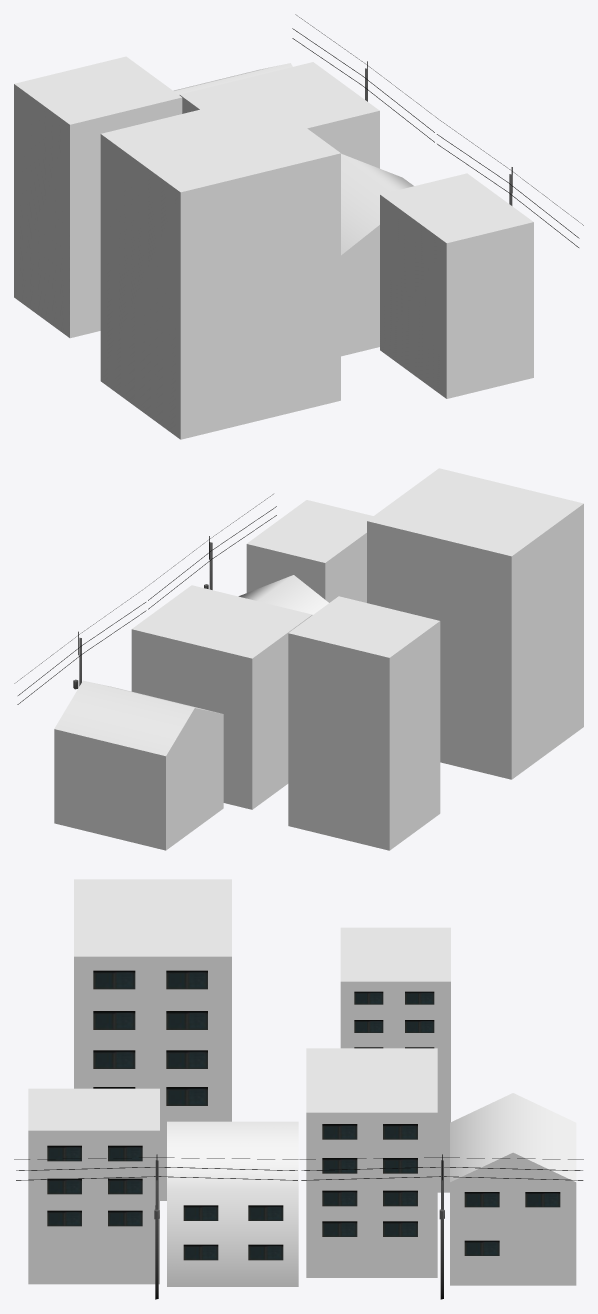
3 renders of one model, top to bottom at view 1: azimuth 30°, elevation 25°; view 2: azimuth 150°, elevation 25°; view 3: azimuth 270°, elevation 25°, orthographic. The views are drawn at different scales.
Visible parts, largest first — view 1: obj111, obj108, obj110, obj106, obj107, black_bg, obj109, obj105; view 2: obj111, obj110, black_bg, obj106, obj108, obj107, obj105, obj109; view 3: obj111, obj106, obj108, black_bg, obj107, obj110, obj109, obj105.
Part boxes in pixels (box(x1,y1,x2,y2)): obj111: box(100, 95, 340, 439); obj108: box(380, 173, 533, 398); obj110: box(14, 56, 182, 338); obj106: box(179, 62, 379, 168); obj107: box(341, 153, 413, 356); black_bg: box(173, 63, 292, 94); obj109: box(437, 120, 583, 247); obj105: box(292, 14, 438, 142); obj111: box(367, 468, 583, 779); obj110: box(288, 596, 440, 850); black_bg: box(54, 680, 223, 850); obj106: box(131, 585, 312, 809); obj108: box(246, 500, 373, 602); obj107: box(238, 575, 328, 614); obj105: box(14, 589, 146, 704); obj109: box(145, 494, 276, 609); obj111: box(74, 879, 231, 1200); obj106: box(306, 1048, 437, 1277); obj108: box(28, 1088, 159, 1284); black_bg: box(450, 1093, 576, 1285); obj107: box(167, 1121, 298, 1286); obj110: box(340, 927, 450, 1192); obj109: box(14, 1154, 298, 1299); obj105: box(299, 1154, 583, 1299).
Size of the model in its own units: 76.42 by 48.35 by 101.
14 materials, 14 textured.
